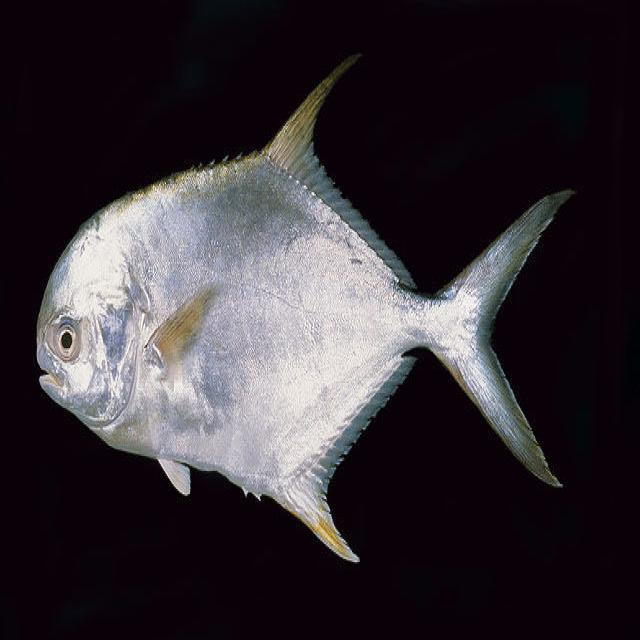ikan: (34, 50, 576, 565)
